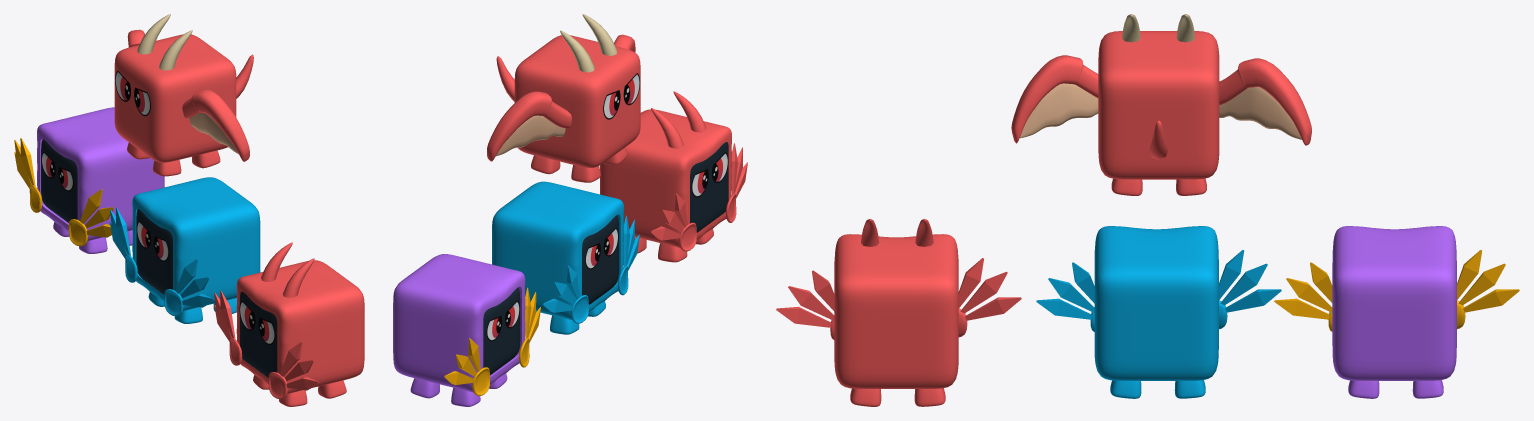
Rendered from roblox_pet_pack_low_poly_3.glb.
3 renders of one model, left to right at view 1: azimuth 30°, elevation 25°; view 2: azimuth 150°, elevation 25°; view 3: azimuth 270°, elevation 25°, orthographic. The views are drawn at different scales.
Visible parts, largest first — view 1: Object_19, Object_10, Object_14, Object_5, Object_4, Object_15, Object_6, Object_11, Object_18, Object_9, Object_21, Object_20 (+3 smaller); view 2: Object_19, Object_14, Object_5, Object_10, Object_4, Object_11, Object_6, Object_15, Object_20, Object_18, Object_9, Object_21 (+3 smaller); view 3: Object_19, Object_14, Object_10, Object_5, Object_20, Object_4, Object_18, Object_9.
Part boxes in pixels (x1,y1,x2,y2): Object_19: (114, 29, 253, 176); Object_10: (214, 260, 364, 406); Object_14: (110, 177, 260, 323); Object_5: (37, 107, 164, 253); Object_4: (14, 138, 113, 246); Object_15: (136, 209, 172, 294); Object_6: (41, 139, 77, 222); Object_11: (240, 291, 277, 377); Object_18: (137, 14, 192, 70); Object_9: (261, 242, 314, 297); Object_21: (115, 71, 150, 116); Object_20: (189, 112, 238, 153); Object_19: (487, 34, 640, 182); Object_14: (492, 181, 639, 334); Object_5: (393, 254, 525, 406); Object_10: (600, 109, 747, 262); Object_4: (444, 287, 540, 395); Object_11: (690, 142, 728, 232); Object_6: (483, 287, 520, 375); Object_15: (582, 214, 618, 304); Object_20: (496, 115, 565, 156); Object_18: (560, 14, 617, 72); Object_9: (651, 91, 706, 148); Object_21: (603, 73, 639, 119); Object_19: (1011, 31, 1311, 195); Object_14: (1036, 226, 1281, 398); Object_10: (776, 234, 1021, 406); Object_5: (1332, 226, 1456, 398); Object_20: (1020, 83, 1301, 139); Object_4: (1274, 250, 1519, 331); Object_18: (1122, 14, 1195, 42); Object_9: (861, 219, 933, 246).
Bounding box in the file's own units: 2.88 × 6.72 × 12.29.
Materials: 15 (4 with a texture image).
